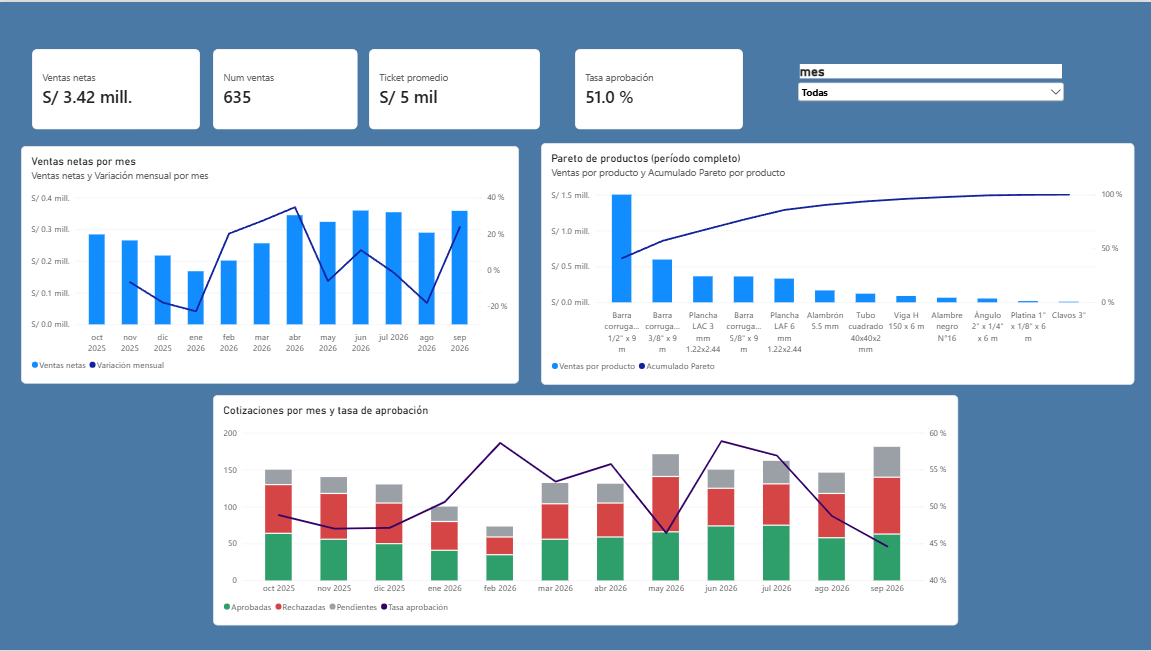

What the dashboard file says about the page in this screenshot:
{"tool":"powerbi","page":{"name":"Comercial","canvas":[1920,1080],"ordinal":0},"visuals":[{"type":"cardVisual","fields":{"Data":["Medidas.Ventas netas"]},"box":[54.3,78.6,280,134.3],"z":0},{"type":"cardVisual","fields":{"Data":["Medidas.Num ventas"]},"box":[357.1,78.6,241.4,134.3],"z":1000},{"type":"cardVisual","fields":{"Data":["Medidas.Ticket promedio"]},"box":[617.1,78.6,285.7,134.3],"z":2000},{"type":"cardVisual","fields":{"Data":["Medidas.Tasa aprobación"]},"box":[960,78.6,280,134.3],"z":3000},{"type":"lineClusteredColumnComboChart","title":"Ventas netas por mes","fields":{"Category":["Meses.mes"],"Y":["Medidas.Ventas netas"],"Y2":["Medidas.Variación mensual"]},"box":[36.2,240.6,830.3,396.3],"z":4000},{"type":"lineClusteredColumnComboChart","title":"Pareto de productos (período completo)","fields":{"Category":["v_top_productos.producto"],"Y":["Medidas.Ventas por producto"],"Y2":["Medidas.Acumulado Pareto"]},"box":[902.6,234.3,989.1,402.6],"z":5000},{"type":"lineStackedColumnComboChart","title":"Cotizaciones por mes y tasa de aprobación","fields":{"Category":["Meses.mes"],"Y":["Sum(v_cotizaciones_estado.aprobadas)","Sum(v_cotizaciones_estado.rechazadas)","Sum(v_cotizaciones_estado.pendientes)"],"Y2":["Medidas.Tasa aprobación"]},"box":[357,655.7,1242,384],"z":6000},{"type":"slicer","fields":{"Values":["Meses.mes"]},"box":[1327.2,103.8,453.3,85.6],"z":7000}]}

Visuals, with their boxes in screenshot pixels (x1, y1, x2, y2), scaled from the page's 1920x1080 canvas onto the 1151x651 screenshot:
cardVisual - Medidas.Ventas netas: BBox(33, 47, 200, 128)
cardVisual - Medidas.Num ventas: BBox(214, 47, 359, 128)
cardVisual - Medidas.Ticket promedio: BBox(370, 47, 541, 128)
cardVisual - Medidas.Tasa aprobación: BBox(576, 47, 743, 128)
"Ventas netas por mes" lineClusteredColumnComboChart: BBox(22, 145, 519, 384)
"Pareto de productos (período completo)" lineClusteredColumnComboChart: BBox(541, 141, 1134, 384)
"Cotizaciones por mes y tasa de aprobación" lineStackedColumnComboChart: BBox(214, 395, 959, 627)
slicer - Meses.mes: BBox(796, 63, 1067, 114)
